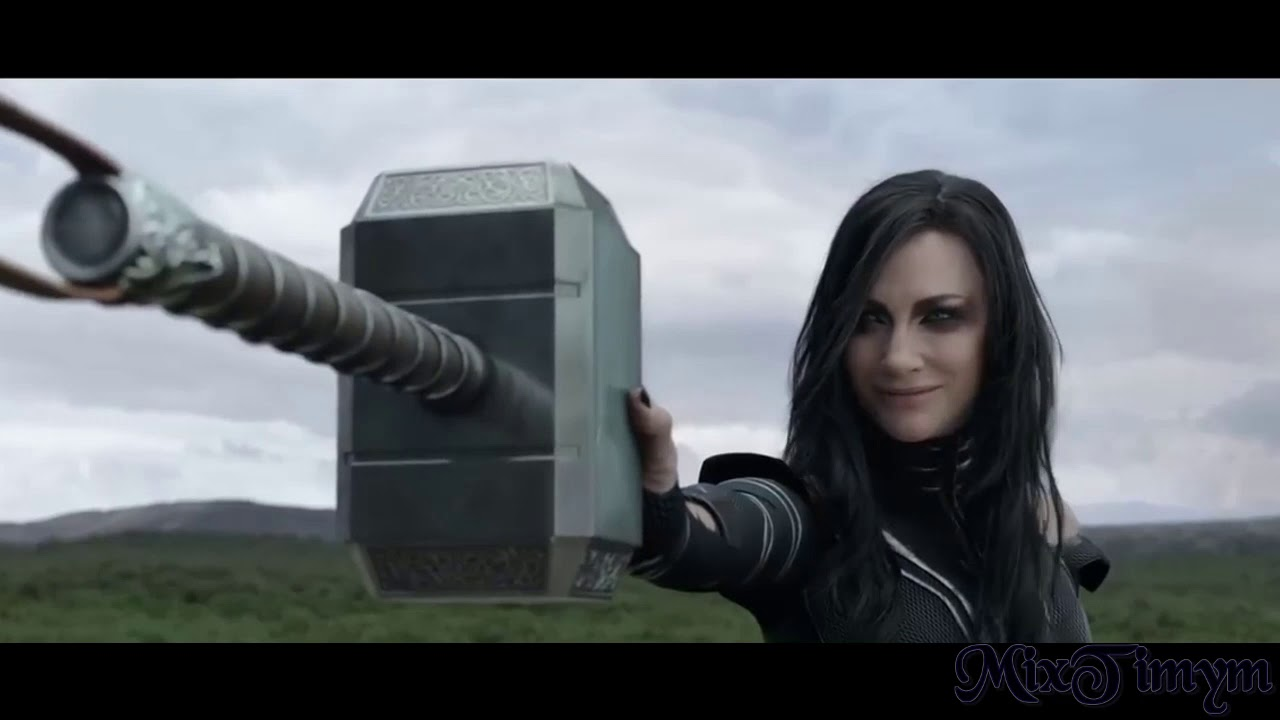THOR Hammer: (50, 123, 698, 604), (459, 274, 524, 308)
